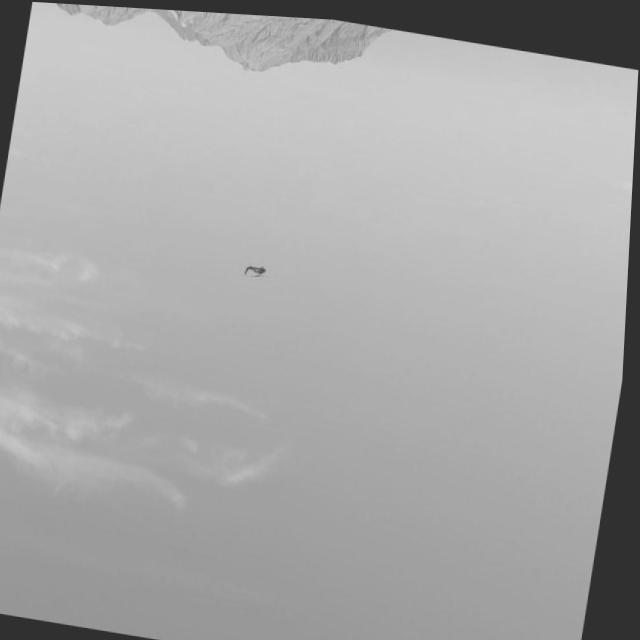helikopter: (223, 225, 303, 306)
